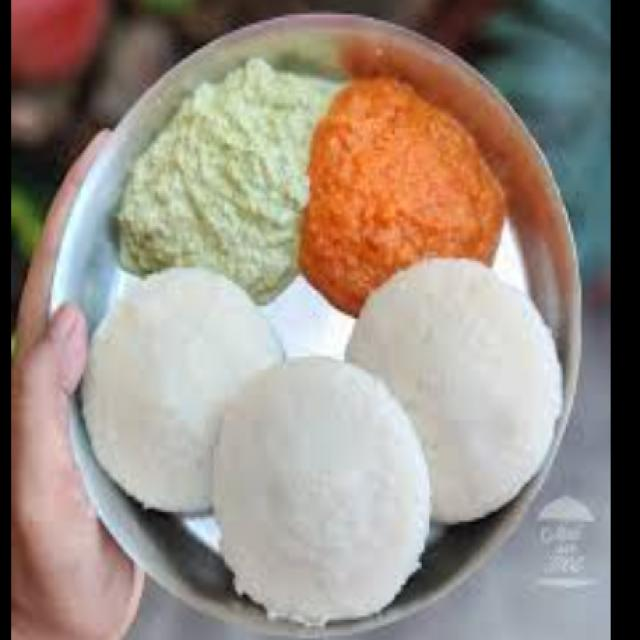tomato chutney: (364, 57, 502, 269)
